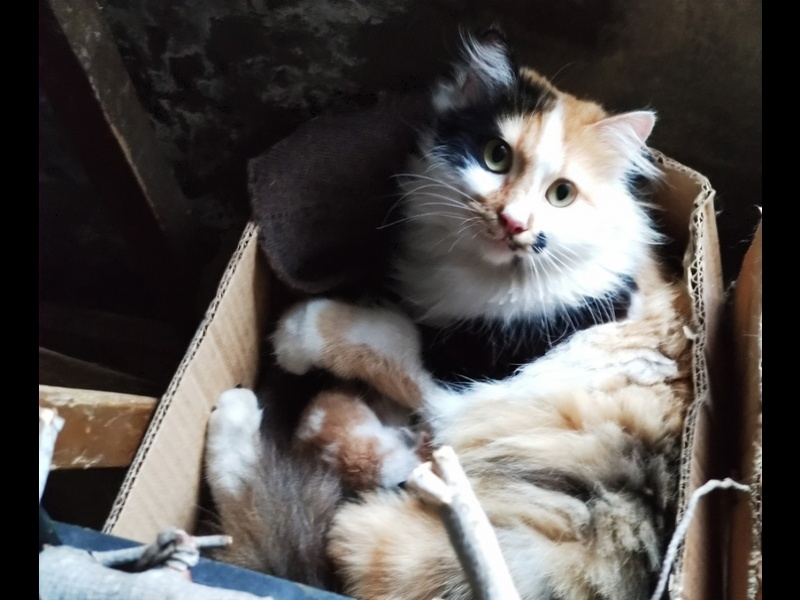cat: (196, 30, 690, 580)
